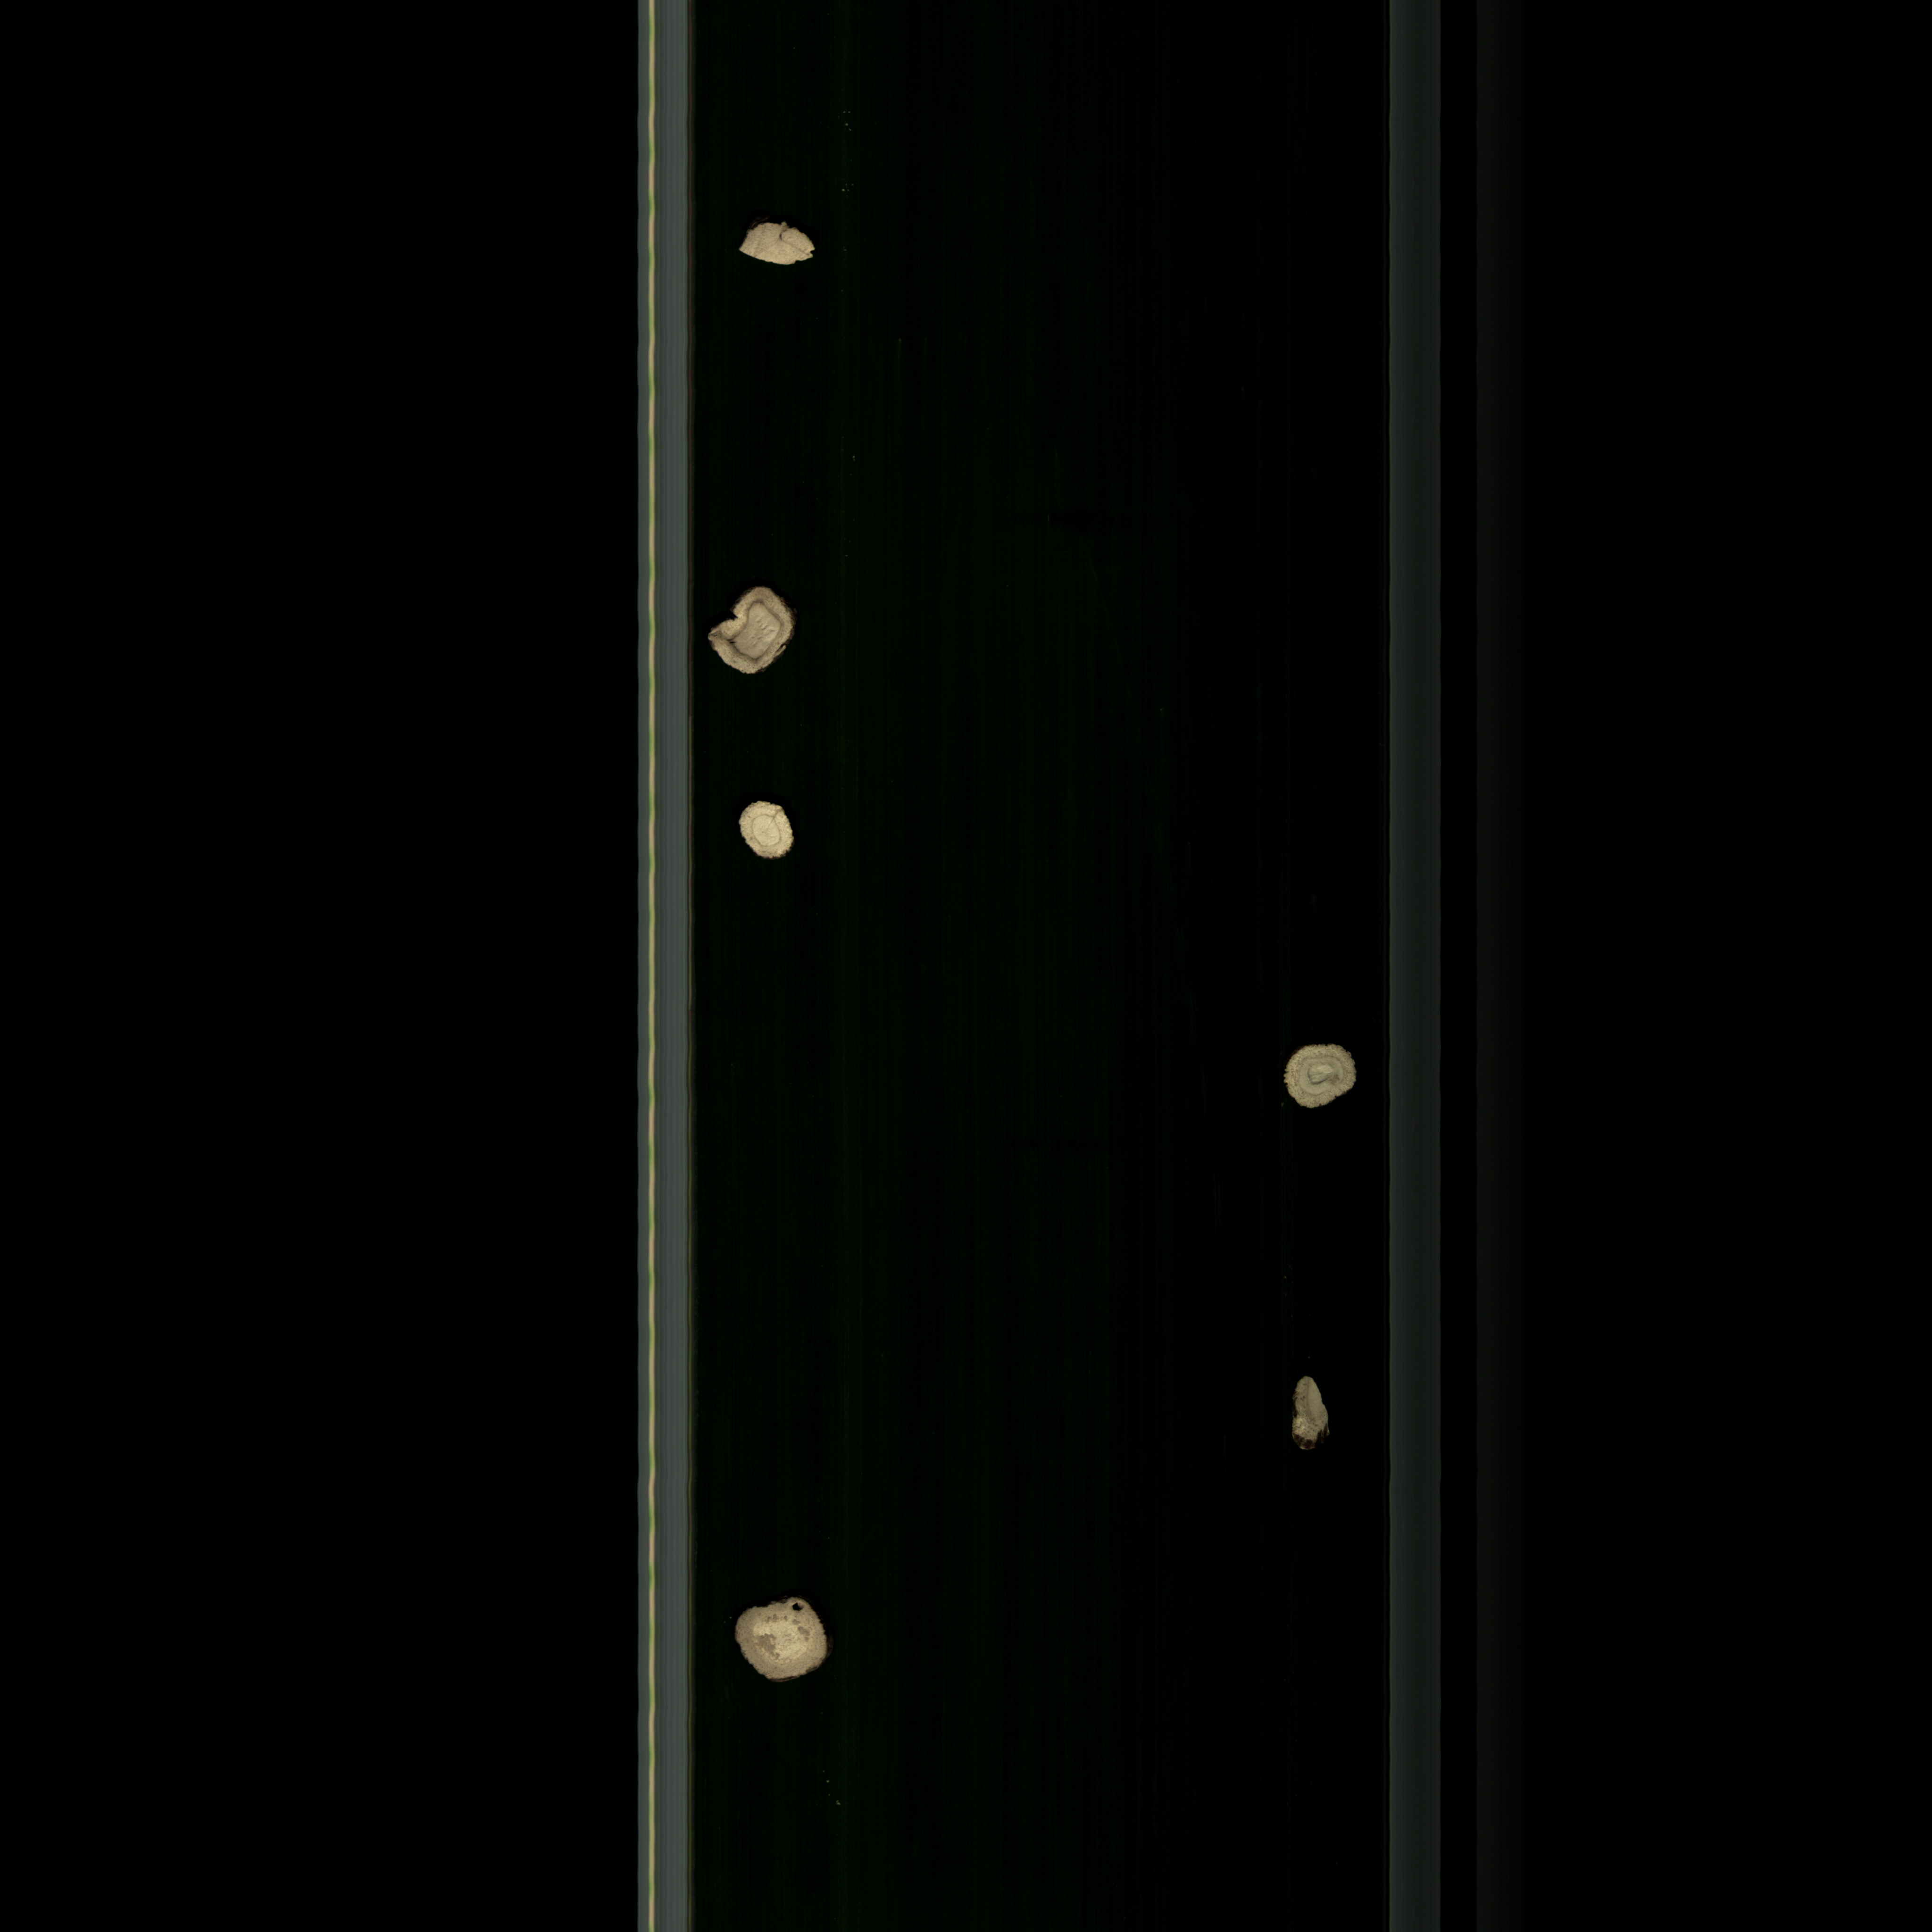debris: (729, 209, 830, 276)
distortion: (699, 577, 812, 694)
dreg: (1288, 1368, 1346, 1461)
hole: (732, 1596, 844, 1695)
